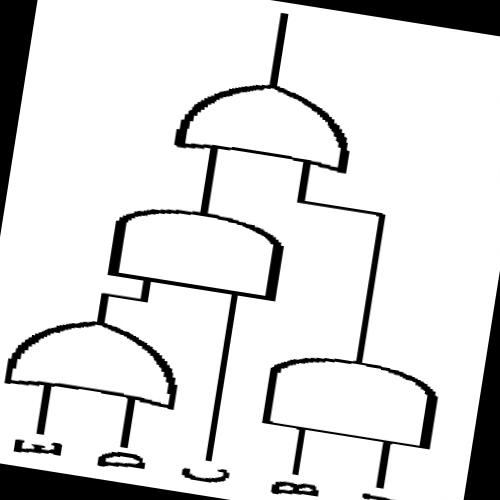and: (69, 177, 311, 316), (240, 332, 462, 468)
or: (126, 38, 394, 194), (0, 295, 202, 423)
